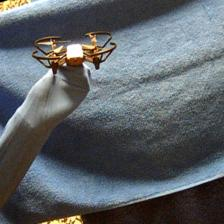drone: (34, 31, 116, 75)
